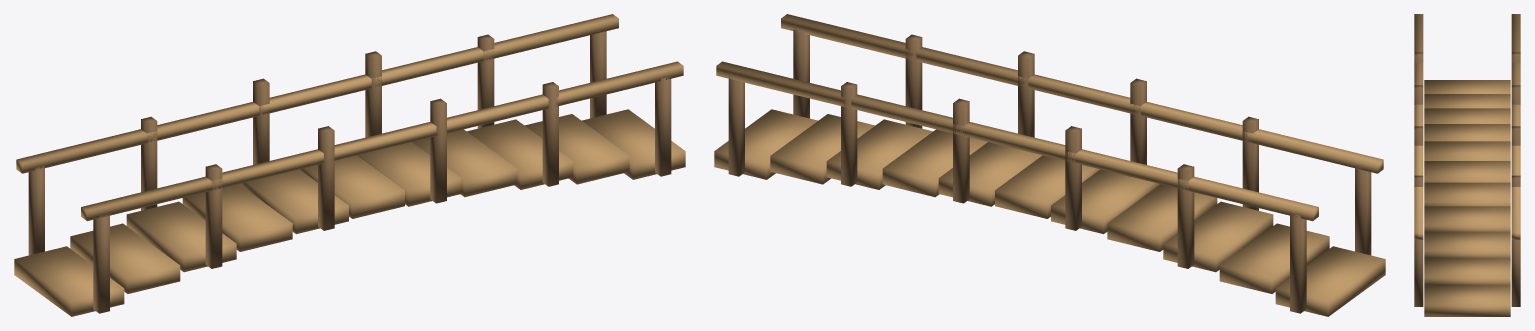
The model's file is prop-bridge.glb.
The picture shows the model from 3 angles, left to right: view 1: azimuth 30°, elevation 25°; view 2: azimuth 150°, elevation 25°; view 3: azimuth 270°, elevation 25°; orthographic projection. The views are drawn at different scales.
Parts seen in each view (by area): view 1: prop-bridge_wood, prop-bridge_bark; view 2: prop-bridge_wood, prop-bridge_bark; view 3: prop-bridge_wood, prop-bridge_bark.
Part boxes in pixels (bbox=[...]): prop-bridge_wood: bbox=[14, 14, 685, 316]; prop-bridge_bark: bbox=[28, 30, 671, 313]; prop-bridge_wood: bbox=[714, 14, 1385, 316]; prop-bridge_bark: bbox=[728, 29, 1371, 313]; prop-bridge_wood: bbox=[1414, 14, 1520, 316]; prop-bridge_bark: bbox=[1414, 52, 1520, 306].
Size of the model in its own units: 5.25 by 1.05 by 1.05.
